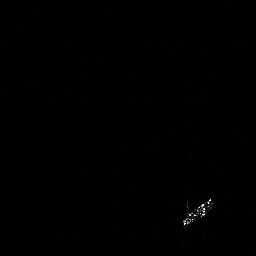ship: (179, 192, 217, 231)
